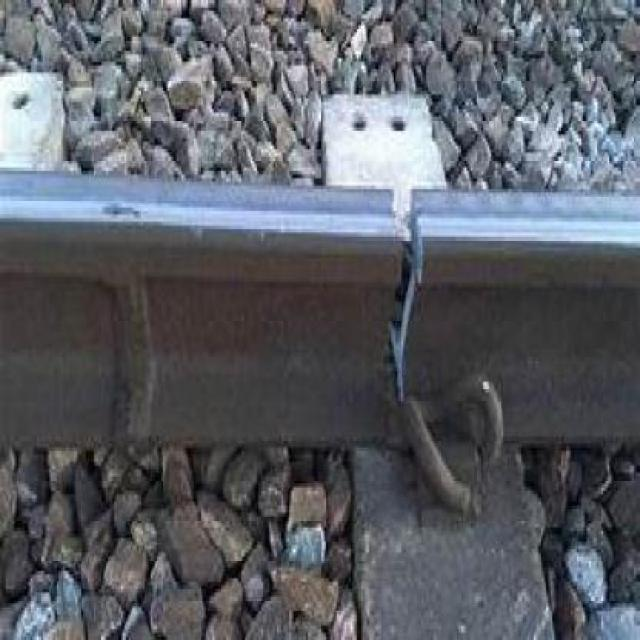defective: (133, 100, 640, 618)
